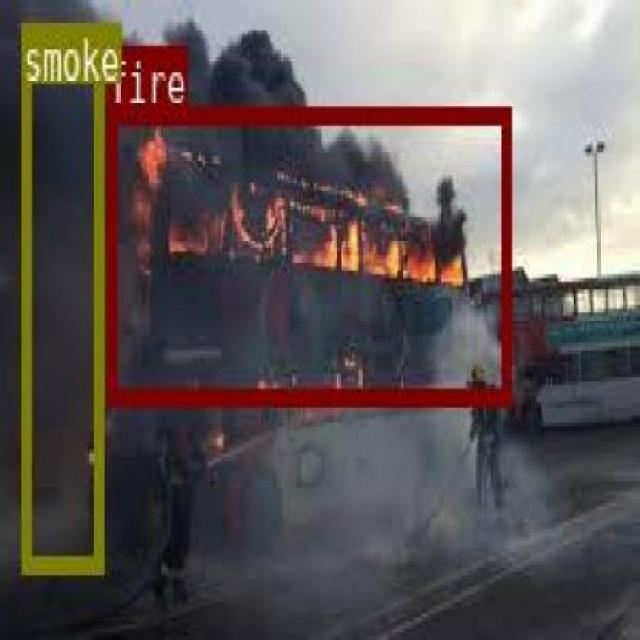Fire: (104, 104, 508, 403)
Smoke: (19, 21, 101, 568)
